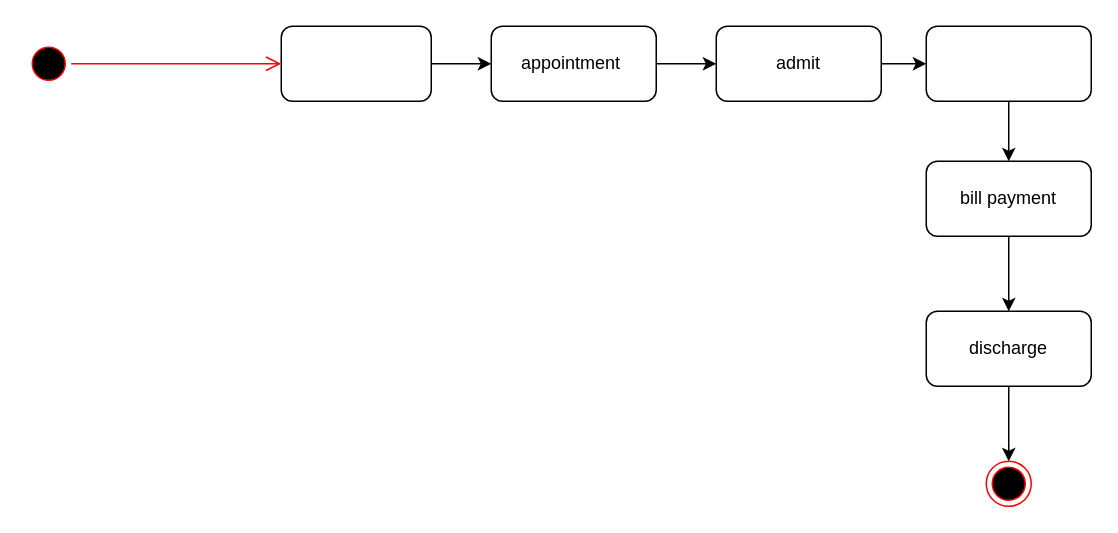
This 1118x533 diagram has some shape labels left out. Here are the shapes that lost their labels. From the top down, the centre of each, then its label:
point (355, 63): idle
point (1008, 63): treatment
